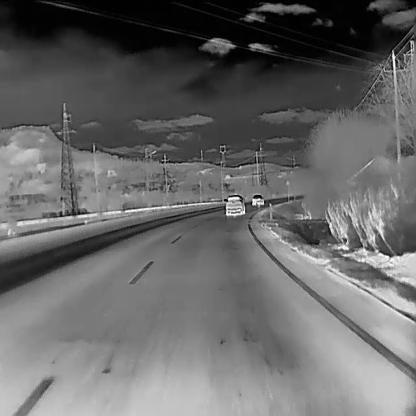car: (225, 194, 245, 216), (250, 192, 264, 206)
